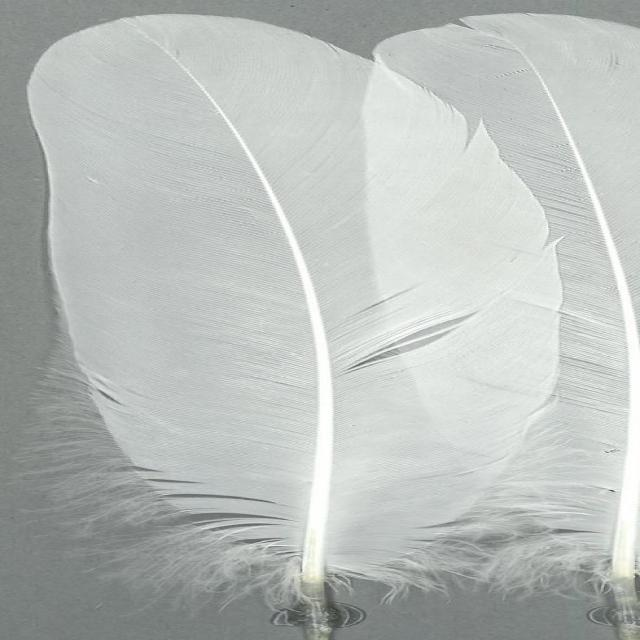feather: (39, 10, 557, 639)
